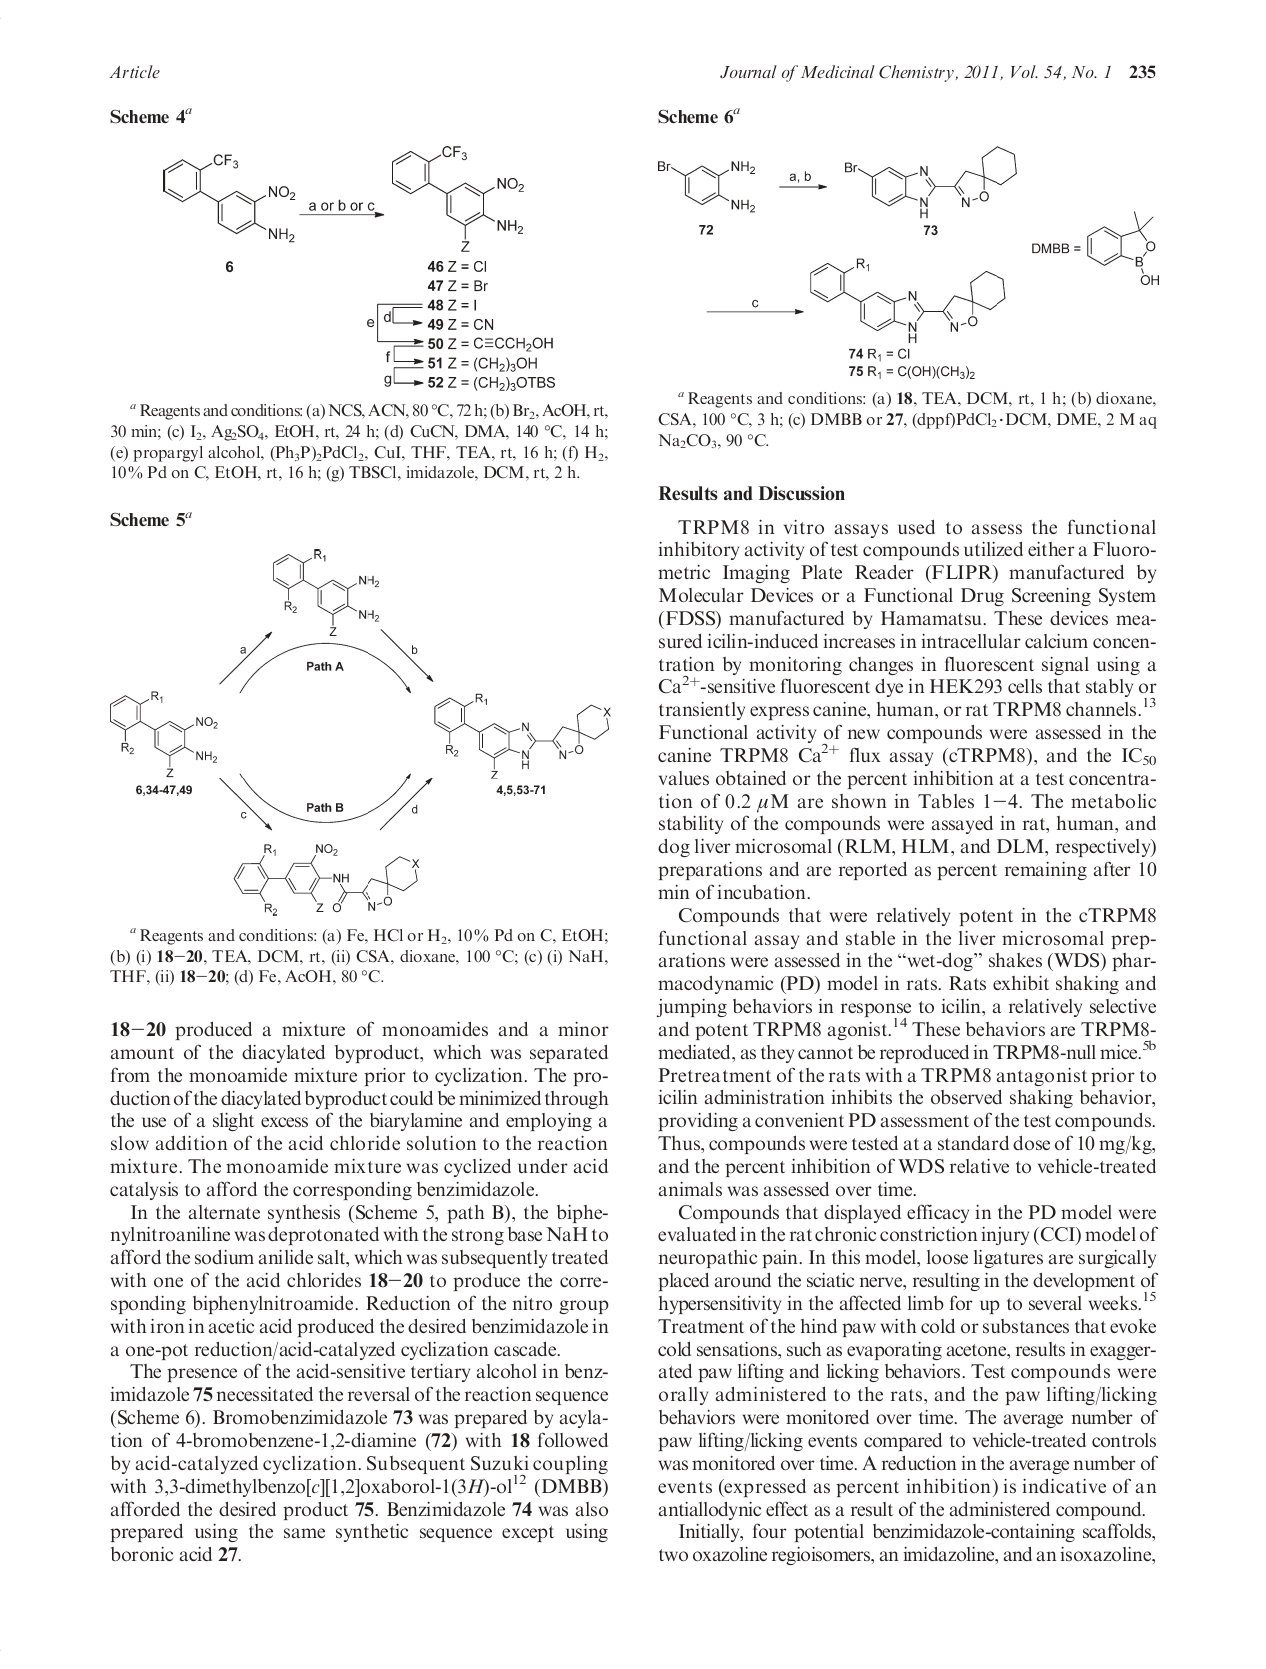exist_molecular: (806, 255, 1008, 348), (430, 689, 614, 781), (388, 144, 531, 255), (231, 840, 423, 918), (839, 144, 1024, 221), (158, 152, 302, 246), (270, 547, 382, 638), (106, 690, 219, 781), (654, 152, 761, 219), (1086, 211, 1165, 293)
